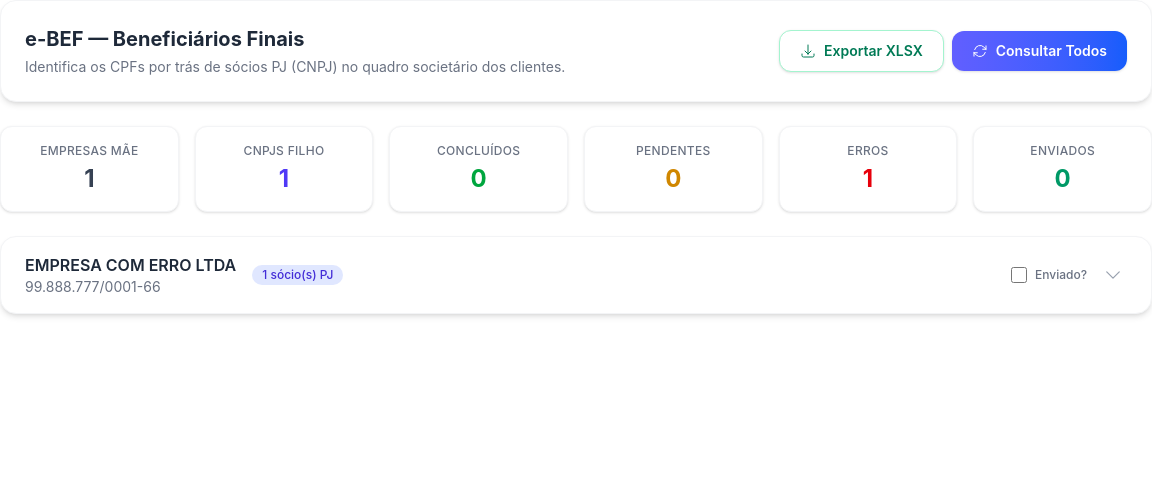
Test case: EBEFTab › exibe badge Erro com mensagem e botao Reconsultar
Click the text "EMPRESA COM ERRO LTDA" at [131, 265], box x1=25 y1=253 x2=236 y2=277
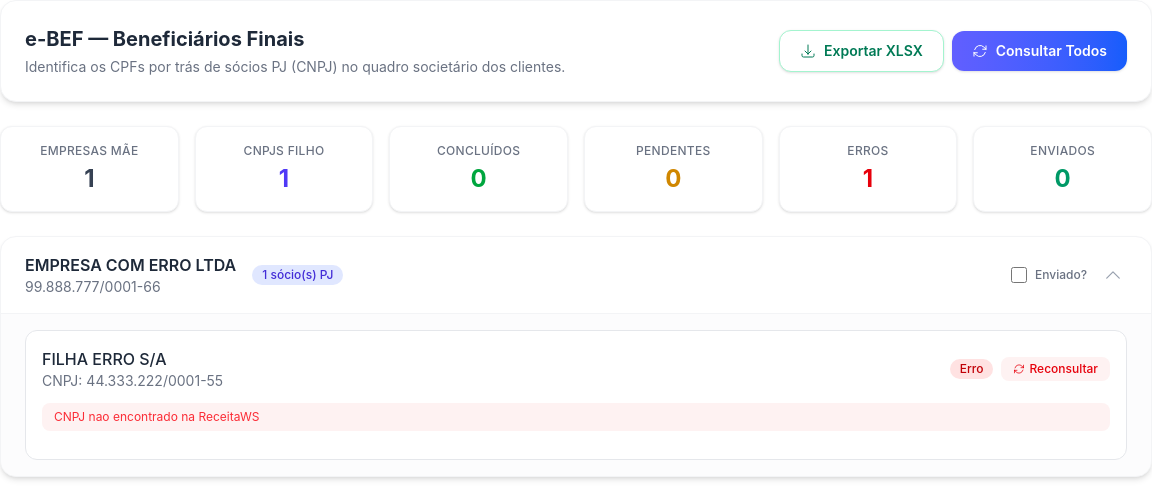
Expected: the text "Erro" is shown, x1=950 y1=359 x2=994 y2=379
Expected: the text "CNPJ nao encontrado na ReceitaWS" is shown, x1=42 y1=403 x2=1110 y2=431
Expected: the button "Reconsultar" is shown, x1=1002 y1=357 x2=1110 y2=381
